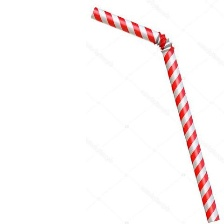drinking_straw: (86, 3, 223, 224)
